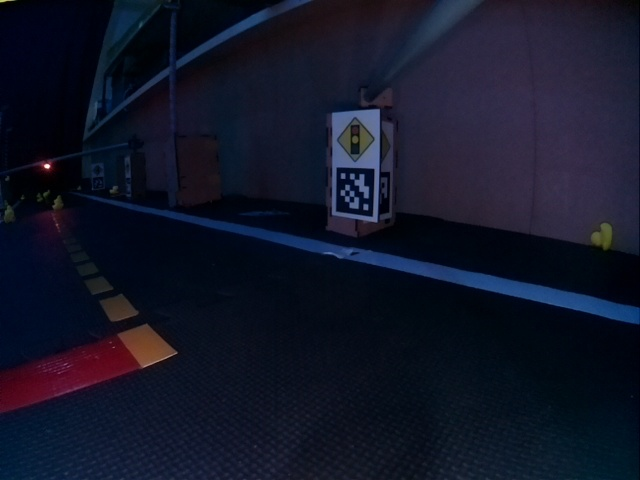Duckie: (590, 223, 611, 248), (5, 207, 15, 220), (109, 186, 119, 194)
QR code: (335, 167, 376, 215)
Signal sign: (335, 113, 377, 164)
